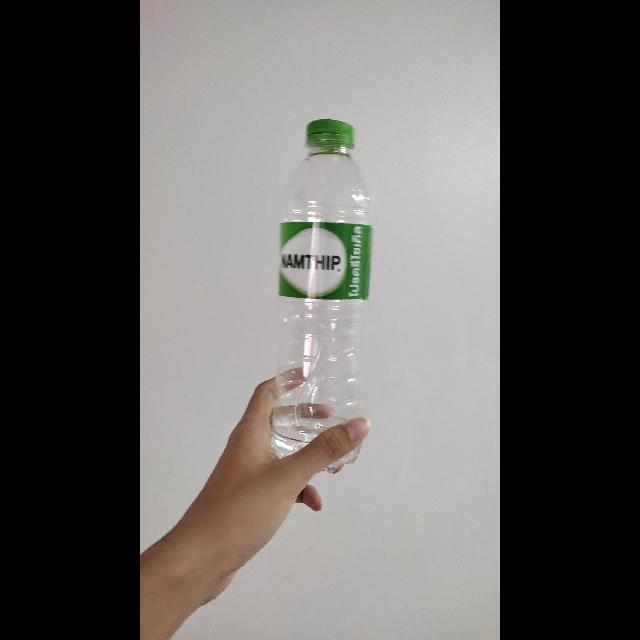plastic_bottle: (267, 108, 377, 468)
plastic_bottle_cap: (307, 118, 353, 150)
